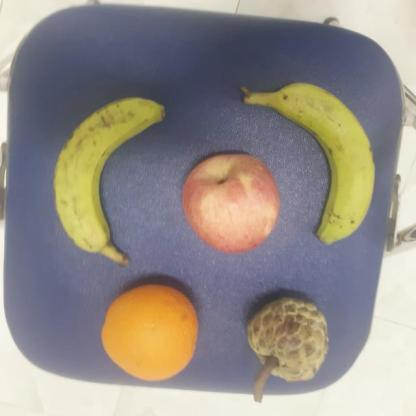annona: (244, 292, 334, 383)
apple: (175, 147, 283, 255)
banana: (236, 82, 378, 247), (50, 92, 164, 270)
orange: (100, 278, 202, 384)
